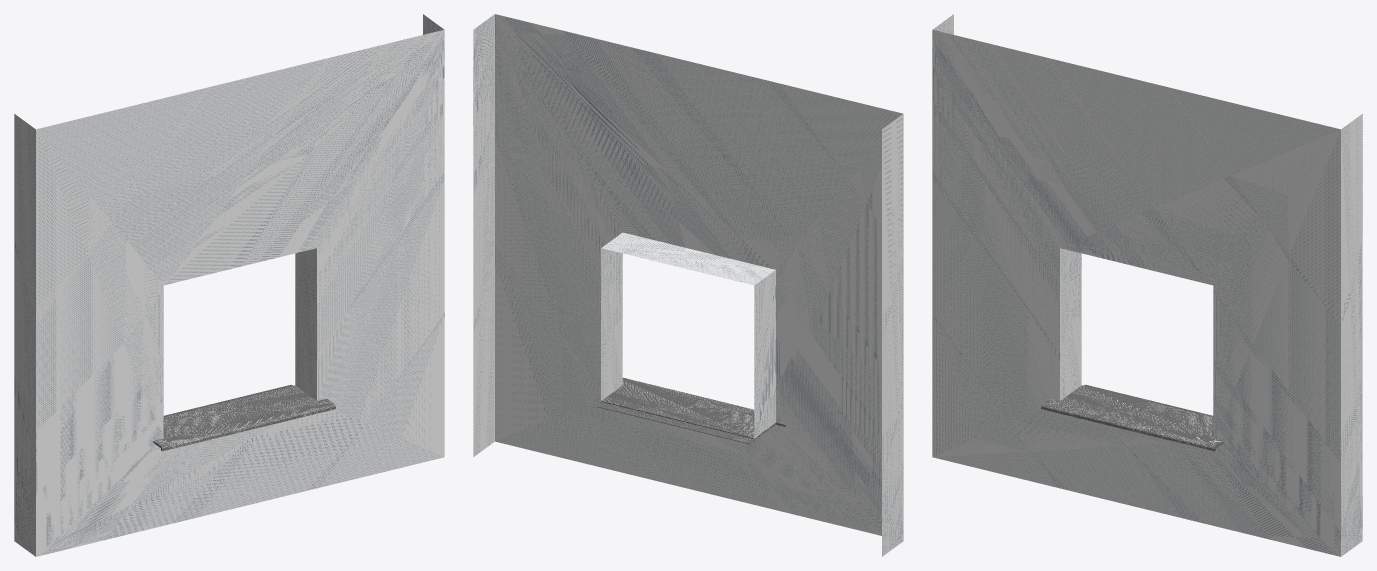
Rendered from WindowBlock_os_[400x400]_150x143x[080].dae.
The picture shows the model from 3 angles, left to right: view 1: azimuth 30°, elevation 25°; view 2: azimuth 150°, elevation 25°; view 3: azimuth 330°, elevation 25°; orthographic projection.
Parts seen in each view (by area): view 1: group_1 (×2), group_2; view 2: group_1 (×2), group_2 (×2); view 3: group_1 (×2), group_2.
Boxes of the visible parts, x1,y1,x2,y2 form: group_1 (×2): (14,14,444,556); group_2: (153,385,335,451); group_1 (×2): (473,14,903,556); group_2 (×2): (597,377,785,444); group_1 (×2): (932,14,1362,556); group_2: (1041,385,1222,451).
Size of the model in its own units: 157 by 23.03 by 157.
